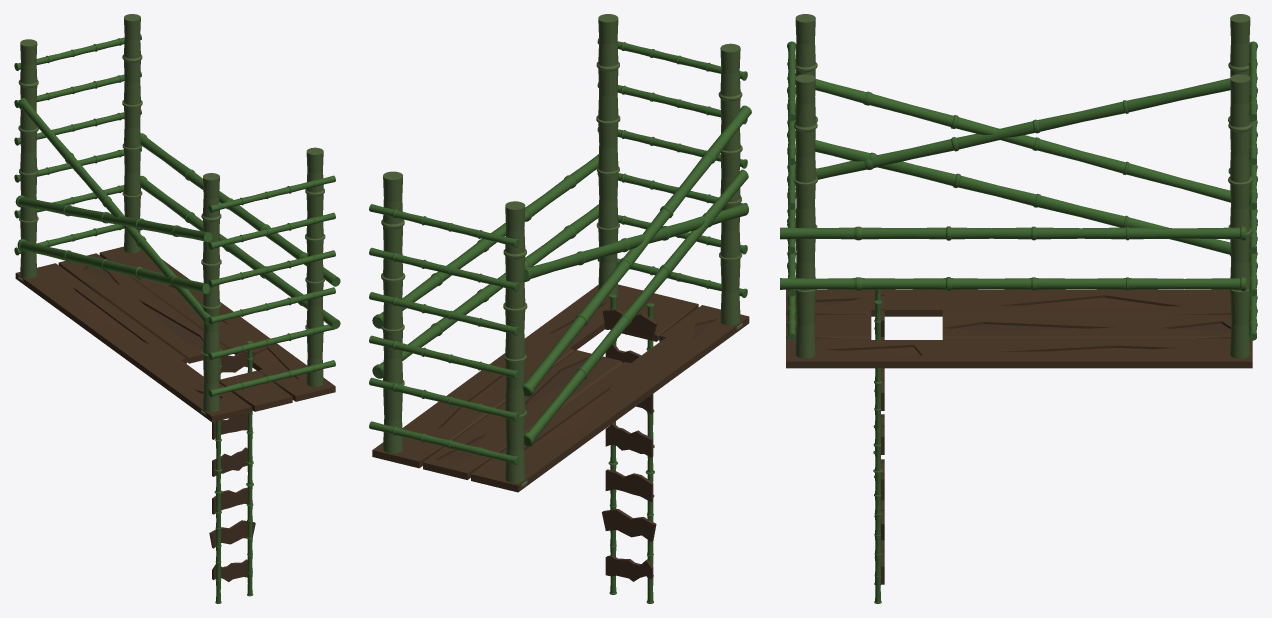
Rendered from Echafaudage 1.fbx.
3 renders of one model, left to right at view 1: azimuth 30°, elevation 25°; view 2: azimuth 150°, elevation 25°; view 3: azimuth 270°, elevation 25°, orthographic. The views are drawn at different scales.
Visible parts, largest first — view 1: Cube, Cylindre.018, Cylindre.007, Cylindre.004, Cylindre.005, Cylindre.006, Cylindre.059, Cylindre.060, Cylindre.061, Cylindre.058, Cylindre.057, Cylindre.022 (+11 smaller); view 2: Cube, Cylindre.018, Cylindre.006, Cylindre.004, Cylindre.005, Cylindre.007, Cylindre.061, Cylindre.060, Cylindre.059, Cylindre.058, Cylindre.057, Cylindre.020 (+11 smaller); view 3: Cube, Cylindre.057, Cylindre.058, Cylindre.007, Cylindre.006, Cylindre.059, Cylindre.061, Cylindre.060, Cylindre.018, Cylindre.005, Cylindre.004, Cylindre.026 (+1 smaller).
Boxes of the visible parts, x1,y1,x2,y2 form: Cube: [15, 246, 335, 422]; Cylindre.018: [209, 341, 255, 603]; Cylindre.007: [122, 14, 142, 253]; Cylindre.004: [18, 39, 38, 281]; Cylindre.005: [201, 173, 221, 415]; Cylindre.006: [305, 147, 325, 386]; Cylindre.059: [18, 98, 211, 324]; Cylindre.060: [17, 239, 209, 293]; Cylindre.061: [15, 195, 212, 241]; Cylindre.058: [140, 133, 340, 286]; Cylindre.057: [140, 175, 340, 328]; Cylindre.022: [208, 360, 335, 397]; Cube: [372, 284, 749, 492]; Cylindre.018: [602, 294, 657, 603]; Cylindre.006: [596, 14, 620, 295]; Cylindre.004: [503, 201, 527, 486]; Cylindre.005: [718, 43, 742, 329]; Cylindre.007: [381, 171, 405, 453]; Cylindre.061: [522, 105, 751, 396]; Cylindre.060: [524, 169, 748, 446]; Cylindre.059: [523, 203, 748, 281]; Cylindre.058: [372, 154, 598, 328]; Cylindre.057: [372, 204, 598, 378]; Cylindre.020: [369, 377, 519, 421]; Cube: [786, 289, 1252, 368]; Cylindre.057: [780, 277, 1246, 291]; Cylindre.058: [780, 226, 1246, 240]; Cylindre.007: [1228, 74, 1252, 358]; Cylindre.006: [793, 74, 817, 358]; Cylindre.059: [795, 78, 1230, 179]; Cylindre.061: [795, 79, 1230, 202]; Cylindre.060: [815, 140, 1230, 256]; Cylindre.018: [873, 289, 884, 603]; Cylindre.005: [795, 14, 817, 227]; Cylindre.004: [1228, 14, 1250, 227]; Cylindre.026: [787, 41, 796, 121].
Bounding box in the file's own units: 342 × 1124 × 895.
